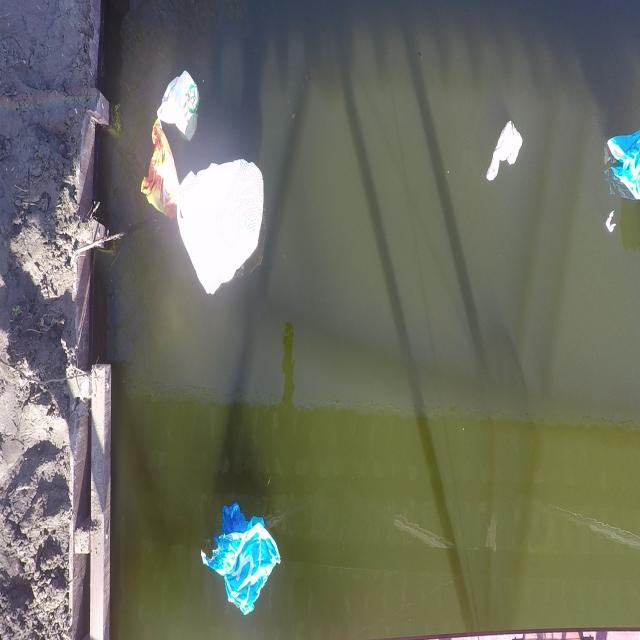Sac plastique: (172, 142, 279, 313), (195, 496, 284, 625), (126, 105, 185, 233), (602, 115, 640, 235), (153, 59, 204, 143), (486, 114, 524, 186)
